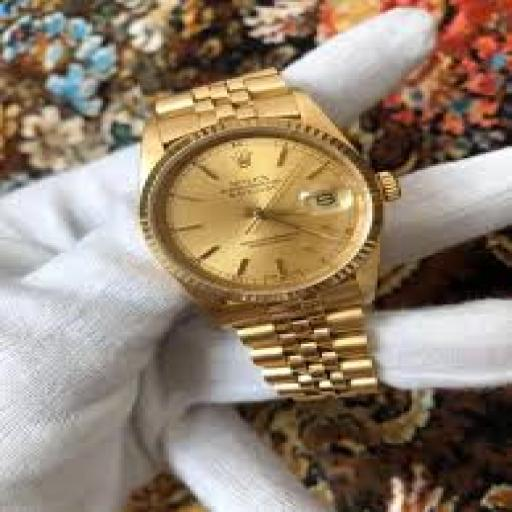KolSaati: (85, 54, 465, 430)
